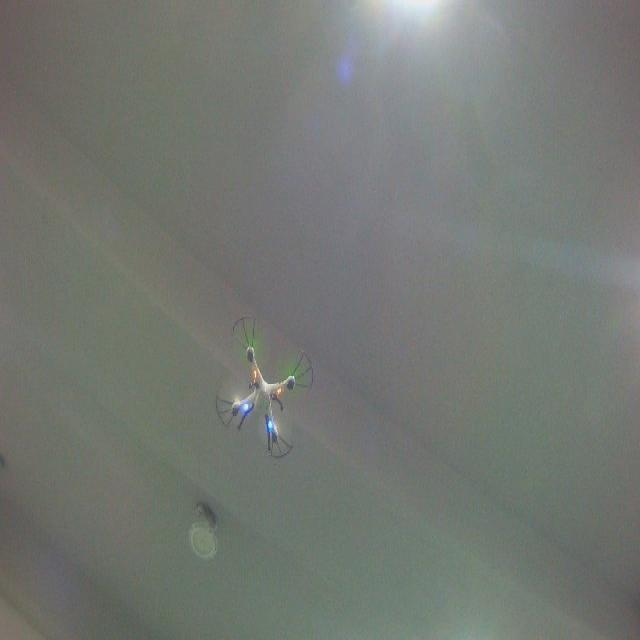drone: (214, 314, 314, 459)
